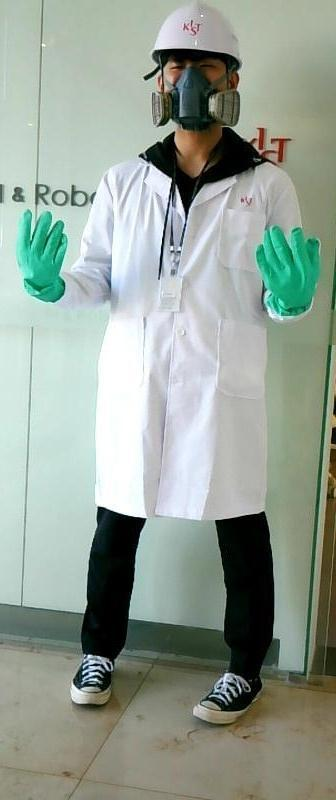lab_coat: (105, 169, 269, 508)
